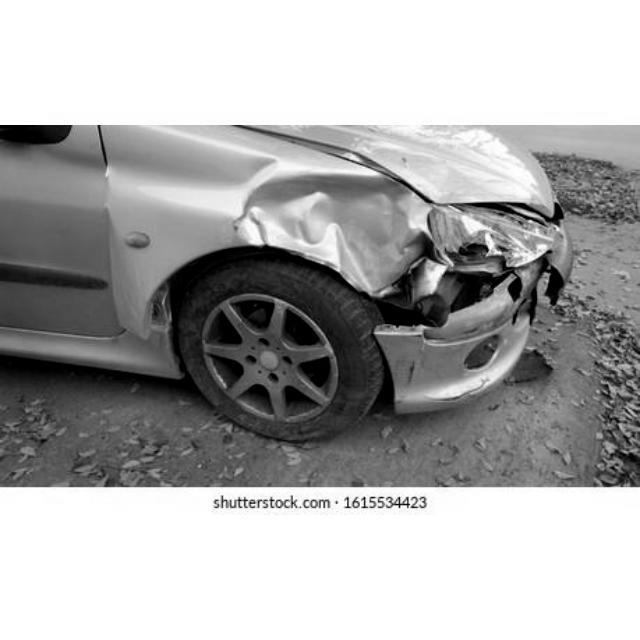Headlight-damage: (415, 199, 578, 275)
fender-dent: (107, 156, 412, 302)
front-bumper-dent: (391, 275, 570, 418)
